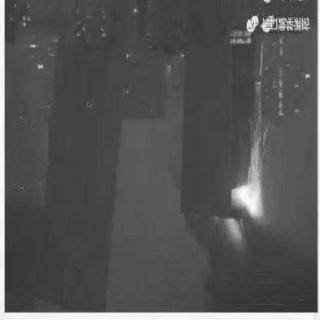Fire: (227, 177, 269, 239)
